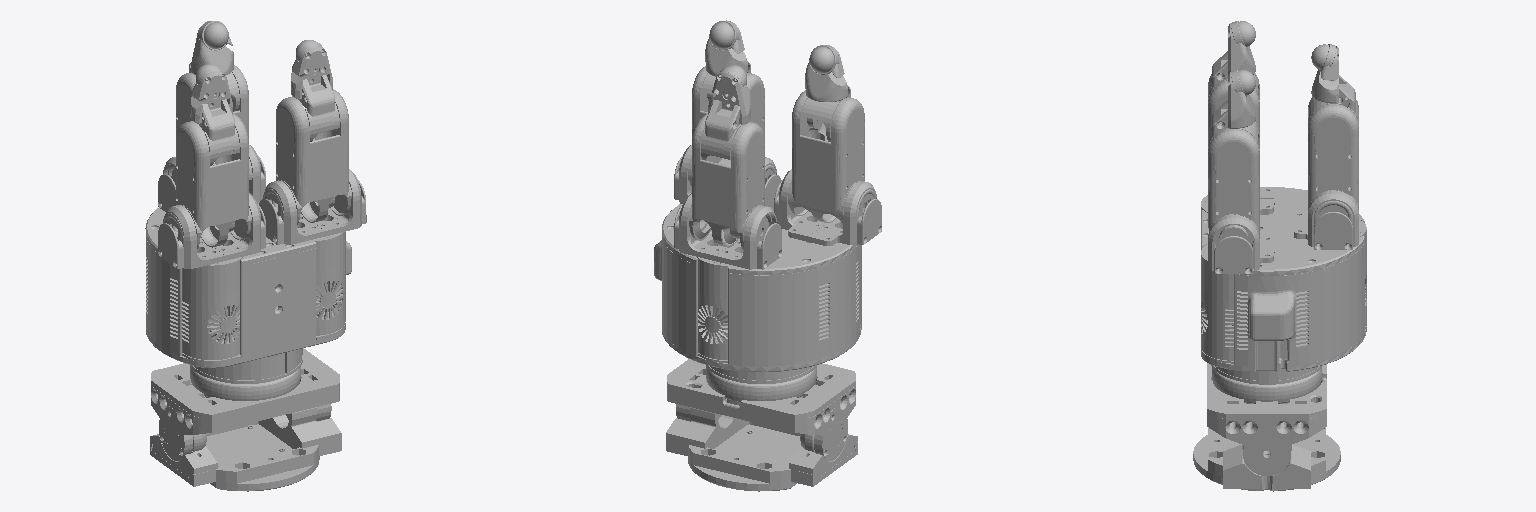
URDF robot description (hand_H):
<?xml version="1.0" ?>
<!-- =================================================================================== -->
<!-- |    This document was autogenerated by xacro from robots/hand_h.xacro            | -->
<!-- |    EDITING THIS FILE BY HAND IS NOT RECOMMENDED                                 | -->
<!-- =================================================================================== -->
<robot name="hand_H" xmlns:xacro="http://ros.org/wiki/xacro">
  <link name="world"/>
  <material name="Blue">
    <color rgba="0.0 0.0 0.8 1.0"/>
  </material>
  <material name="Green">
    <color rgba="0.0 0.8 0.0 1.0"/>
  </material>
  <material name="BiotacGreen">
    <color rgba="0.31 0.85 0.42 1.0"/>
  </material>
  <material name="Grey">
    <color rgba="0.2 0.2 0.2 1.0"/>
  </material>
  <material name="LightGrey">
    <color rgba="0.6 0.6 0.6 1.0"/>
  </material>
  <material name="Red">
    <color rgba="0.8 0.0 0.0 1.0"/>
  </material>
  <material name="White">
    <color rgba="1.0 1.0 1.0 1.0"/>
  </material>
  <gazebo>
    <plugin filename="libgazebo_ros_control.so" name="ros_control">
      <robotSimType>gazebo_ros_control/DefaultRobotHWSim</robotSimType>
    </plugin>
  </gazebo>
  <link name="H1_WR_wrist_base">
    <inertial>
      <origin rpy="0 0 0" xyz="0.00326865129997316 -4.64589898998213E-06 0.0112847129271115"/>
      <mass value="0.126266795472122"/>
      <inertia ixx="7.45469352483292E-05" ixy="6.02324465005139E-09" ixz="7.48046652661961E-07" iyy="0.000152711306761993" iyz="2.66777152755212E-09" izz="0.000201286651417327"/>
    </inertial>
    <visual>
      <origin rpy="0 0 0" xyz="0 0 0"/>
      <geometry>
        <mesh filename="package://fh_desc/meshes/wrist_base.stl"/>
      </geometry>
      <material name="light_grey">
        <color rgba="0.75 0.75 0.75 1.0"/>
      </material>
    </visual>
    <collision>
      <origin rpy="0 0 0" xyz="0 0 0"/>
      <geometry>
        <mesh filename="package://fh_desc/meshes/wrist_base.stl"/>
      </geometry>
      <material name="light_grey">
        <color rgba="0.75 0.75 0.75 1.0"/>
      </material>
    </collision>
  </link>
  <link name="H1_WR_wrist">
    <inertial>
      <origin rpy="0 0 0" xyz="0.00160957599422527 -0.000629300457080406 0.0174740198321096"/>
      <mass value="0.111982108931474"/>
      <inertia ixx="7.18014678375949E-05" ixy="-9.11325601281988E-07" ixz="-2.80734883420538E-06" iyy="0.000184429517814393" iyz="-2.43285388562761E-07" izz="0.000238392777579217"/>
    </inertial>
    <visual>
      <origin rpy="0 0 0" xyz="0 0 0"/>
      <geometry>
        <mesh filename="package://fh_desc/meshes/wrist.stl"/>
      </geometry>
      <material name="light_grey">
        <color rgba="0.75 0.75 0.75 1.0"/>
      </material>
    </visual>
    <collision>
      <origin rpy="0 0 0" xyz="0 0 0"/>
      <geometry>
        <mesh filename="package://fh_desc/meshes/wrist.stl"/>
      </geometry>
      <material name="light_grey">
        <color rgba="0.75 0.75 0.75 1.0"/>
      </material>
    </collision>
  </link>
  <joint name="H1_WRJ1" type="revolute">
    <origin rpy="0 0 0" xyz="0 0 0.032"/>
    <parent link="H1_WR_wrist_base"/>
    <child link="H1_WR_wrist"/>
    <axis xyz="-1 0 0"/>
    <limit effort="20" lower="-0.785" upper="0.785" velocity="0.1"/>
    <dynamic damping="0.1"/>
  </joint>
  <link name="H1_WR_force_torque_sensor">
    <inertial>
      <origin rpy="0 0 0" xyz="-2.94070736140857E-06 6.43877814287904E-05 0.0247092180043537"/>
      <mass value="0.0975991645938483"/>
      <inertia ixx="6.20729230428078E-05" ixy="-1.64643097783638E-08" ixz="-3.24429596458139E-08" iyy="6.18050372756729E-05" iyz="1.29139184791137E-08" izz="8.23283621428637E-05"/>
    </inertial>
    <visual>
      <origin rpy="0 0 0" xyz="0 0 0"/>
      <geometry>
        <mesh filename="package://fh_desc/meshes/force_torque_sensor.stl"/>
      </geometry>
      <material name="light_grey">
        <color rgba="0.75 0.75 0.75 1.0"/>
      </material>
    </visual>
    <collision>
      <origin rpy="0 0 0" xyz="0 0 0"/>
      <geometry>
        <mesh filename="package://fh_desc/meshes/force_torque_sensor.stl"/>
      </geometry>
      <material name="light_grey">
        <color rgba="0.75 0.75 0.75 1.0"/>
      </material>
    </collision>
  </link>
  <link name="H1_WR_face_plate"/>
  <joint name="H1_WR_wrist_to_ft_sensor" type="fixed">
    <origin rpy="0 0 0" xyz="0 0 0.015"/>
    <parent link="H1_WR_wrist"/>
    <child link="H1_WR_force_torque_sensor"/>
  </joint>
  <joint name="H1_WR_wrist_base" type="fixed">
    <origin rpy="0 0 0" xyz="0 0 0"/>
    <parent link="world"/>
    <child link="H1_WR_wrist_base"/>
  </joint>
  <joint name="H1_WRft_sensor_to_faceplate" type="fixed">
    <origin rpy="0 0 0" xyz="0 0 0.0505"/>
    <parent link="H1_WR_force_torque_sensor"/>
    <child link="H1_WR_face_plate"/>
  </joint>
  <transmission name="H1_WRJ1_transmission">
    <type>transmission_interface/SimpleTransmission</type>
    <actuator name="H1_WRJ1">
      <mechanicalReduction>1</mechanicalReduction>
    </actuator>
    <joint name="H1_WRJ1">
      <hardwareInterface>EffortJointInterface</hardwareInterface>
    </joint>
  </transmission>
  <link name="H1_base_link">
    <inertial>
      <origin rpy="0 0 0" xyz="0.000167074827019974 0.017647639199748 0.0354392421665256"/>
      <mass value="0.802291302622713"/>
      <inertia ixx="0.00268740968940699" ixy="-2.63877052807301E-06" ixz="8.21876760057436E-06" iyy="0.00273884664780255" iyz="0.000454017867570455" izz="0.00145589837379105"/>
    </inertial>
    <visual>
      <origin rpy="0 0 0" xyz="0 0 0"/>
      <geometry>
        <mesh filename="package://fh_desc/meshes/palm_base.stl"/>
      </geometry>
      <material name="light_grey">
        <color rgba="0.75 0.75 0.75 1.0"/>
      </material>
    </visual>
    <collision>
      <origin rpy="0 0 0" xyz="0 0 0"/>
      <geometry>
        <mesh filename="package://fh_desc/meshes/palm_base.stl"/>
      </geometry>
      <material name="light_grey">
        <color rgba="0.75 0.75 0.75 1.0"/>
      </material>
    </collision>
  </link>
  <joint name="H1Base" type="fixed">
    <origin rpy="0 0 0" xyz="0 0 0"/>
    <parent link="H1_WR_face_plate"/>
    <child link="H1_wrist_attach"/>
  </joint>
  <link name="H1_insert_F1"/>
  <joint name="H1_dummy_joint_1" type="fixed">
    <origin rpy="0 0 0" xyz="0 0.045 0.002"/>
    <parent link="H1_base_link"/>
    <child link="H1_insert_F1"/>
  </joint>
  <link name="H1_insert_F2"/>
  <joint name="H1_dummy_joint_2" type="fixed">
    <origin rpy="0 0 3.14159265359" xyz="0.038971 -0.0225 0.002"/>
    <parent link="H1_base_link"/>
    <child link="H1_insert_F2"/>
  </joint>
  <link name="H1_insert_F3"/>
  <joint name="H1_dummy_joint_3" type="fixed">
    <origin rpy="0 0 3.14159265359" xyz="-0.038971 -0.0225 0.002"/>
    <parent link="H1_base_link"/>
    <child link="H1_insert_F3"/>
  </joint>
  <link name="H1_wrist_attach"/>
  <joint name="H1_base_link_wrist_attach" type="fixed">
    <origin rpy="0 0 0" xyz="0 0 -0.0005"/>
    <child link="H1_base_link"/>
    <parent link="H1_wrist_attach"/>
  </joint>
  <link name="H1_F1_base_link">
    <inertial>
      <origin rpy="0 0 0" xyz="-0.00016975101978813 0.00197421910589327 0.0561457825889687"/>
      <mass value="0.206184327436554"/>
      <inertia ixx="0.000196208681085273" ixy="7.25965267883658E-08" ixz="-1.42989296818671E-06" iyy="0.00022500240306659" iyz="-8.62726850629812E-06" izz="7.34501911009421E-05"/>
    </inertial>
    <visual>
      <origin rpy="0 0 0" xyz="0 0 0"/>
      <geometry>
        <mesh filename="package://fh_desc/meshes/base_link.stl"/>
      </geometry>
      <material name="light_grey">
        <color rgba="0.75 0.75 0.75 1.0"/>
      </material>
    </visual>
    <collision>
      <origin rpy="0 0 0" xyz="0 0 0"/>
      <geometry>
        <mesh filename="package://fh_desc/meshes/base_link.stl"/>
      </geometry>
      <material name="light_grey">
        <color rgba="0.75 0.75 0.75 1.0"/>
      </material>
    </collision>
  </link>
  <link name="H1_F1_link_1">
    <inertial>
      <origin rpy="0 0 0" xyz="-0.000237426002648366 -0.000311474464416824 0.02717870175844"/>
      <mass value="0.148439137620102"/>
      <inertia ixx="7.87590932011867E-05" ixy="-2.09812809718026E-08" ixz="-4.7018912298647E-07" iyy="9.21180950643254E-05" iyz="1.02291530412464E-06" izz="4.38404666397581E-05"/>
    </inertial>
    <visual>
      <origin rpy="0 0 0" xyz="0 0 0"/>
      <geometry>
        <mesh filename="package://fh_desc/meshes/prox.stl"/>
      </geometry>
      <material name="light_grey">
        <color rgba="0.75 0.75 0.75 1.0"/>
      </material>
    </visual>
    <collision>
      <origin rpy="0 0 0" xyz="0 0 0"/>
      <geometry>
        <mesh filename="package://fh_desc/meshes/prox.stl"/>
      </geometry>
      <material name="light_grey">
        <color rgba="0.75 0.75 0.75 1.0"/>
      </material>
    </collision>
  </link>
  <link name="H1_F1_link_2">
    <inertial>
      <origin rpy="0 0 0" xyz="0.000688458734451483 -0.00121669160147178 0.0179379664791534"/>
      <mass value="0.0468986964963515"/>
      <inertia ixx="1.66577929038936E-05" ixy="1.91370536767985E-09" ixz="-7.90963473136566E-07" iyy="1.65880289089031E-05" iyz="-2.10962265976158E-06" izz="5.79382496615135E-06"/>
    </inertial>
    <visual>
      <origin rpy="0 0 0" xyz="0 0 0"/>
      <geometry>
        <mesh filename="package://fh_desc/meshes/dist.stl"/>
      </geometry>
      <material name="light_grey">
        <color rgba="0.75 0.75 0.75 1.0"/>
      </material>
    </visual>
    <collision>
      <origin rpy="0 0 0" xyz="0 0 0"/>
      <geometry>
        <mesh filename="package://fh_desc/meshes/dist.stl"/>
      </geometry>
      <material name="light_grey">
        <color rgba="0.75 0.75 0.75 1.0"/>
      </material>
    </collision>
  </link>
  <joint name="H1_F1Base" type="fixed">
    <origin rpy="0 0 0" xyz="0 0 0"/>
    <parent link="H1_insert_F1"/>
    <child link="H1_F1_base_link"/>
  </joint>
  <joint name="H1_F1J1" type="revolute">
    <origin rpy="0 0 0" xyz="0 0 0.096"/>
    <parent link="H1_F1_base_link"/>
    <child link="H1_F1_link_1"/>
    <axis xyz="1 0 0"/>
    <limit effort="2" lower="-1.57079632679" upper="1.0472" velocity="1.0"/>
    <dynamics damping="0.1"/>
  </joint>
  <joint name="H1_F1J2" type="revolute">
    <origin rpy="0 0 0" xyz="0 0 0.06"/>
    <axis xyz="1 0 0"/>
    <parent link="H1_F1_link_1"/>
    <child link="H1_F1_link_2"/>
    <limit effort="2" lower="-1.04716" upper="1.57075" velocity="1.0"/>
    <dynamics damping="0.01"/>
  </joint>
  <transmission name="H1_F1J1_transmission">
    <type>transmission_interface/SimpleTransmission</type>
    <actuator name="H1_F1J1">
      <mechanicalReduction>1</mechanicalReduction>
    </actuator>
    <joint name="H1_F1J1">
      <hardwareInterface>EffortJointInterface</hardwareInterface>
    </joint>
  </transmission>
  <transmission name="H1_F1J2_transmission">
    <type>transmission_interface/SimpleTransmission</type>
    <actuator name="H1_F1J2">
      <mechanicalReduction>1</mechanicalReduction>
    </actuator>
    <joint name="H1_F1J2">
      <hardwareInterface>EffortJointInterface</hardwareInterface>
    </joint>
  </transmission>
  <link name="H1_F1_tip">
    <inertial>
      <origin rpy="0 0 0" xyz="-0.000925580990320645 -0.00495543398528436 0.0355865585792753"/>
      <mass value="0.00906322686585137"/>
      <inertia ixx="1.10049088227995E-06" ixy="-3.7290982171096E-09" ixz="-9.54389365908683E-09" iyy="1.36130530510584E-06" iyz="6.66133713720777E-08" izz="6.42259773618367E-07"/>
    </inertial>
    <visual>
      <origin rpy="0 0 0" xyz="0 0 0"/>
      <geometry>
        <mesh filename="package://fh_desc/meshes/omd-d18-tip.stl"/>
      </geometry>
      <material name="light_grey">
        <color rgba="0.75 0.75 0.75 1.0"/>
      </material>
    </visual>
    <collision>
      <origin rpy="0 0 0" xyz="0 0 0"/>
      <geometry>
        <mesh filename="package://fh_desc/meshes/omd-d18-tip.stl"/>
      </geometry>
      <material name="light_grey">
        <color rgba="0.75 0.75 0.75 1.0"/>
      </material>
    </collision>
  </link>
  <link name="H1_F1_optoforce"/>
  <joint name="H1_F1_tip_to_optoforce" type="fixed">
    <parent link="H1_F1_tip"/>
    <child link="H1_F1_optoforce"/>
    <origin rpy="-0.35 0 0" xyz="0 -0.006 0.046"/>
  </joint>
  <joint name="H1_F1_tip" type="fixed">
    <parent link="H1_F1_link_2"/>
    <child link="H1_F1_tip"/>
  </joint>
  <link name="H1_F2_base_link">
    <inertial>
      <origin rpy="0 0 0" xyz="-0.00016975101978813 0.00197421910589327 0.0561457825889687"/>
      <mass value="0.206184327436554"/>
      <inertia ixx="0.000196208681085273" ixy="7.25965267883658E-08" ixz="-1.42989296818671E-06" iyy="0.00022500240306659" iyz="-8.62726850629812E-06" izz="7.34501911009421E-05"/>
    </inertial>
    <visual>
      <origin rpy="0 0 0" xyz="0 0 0"/>
      <geometry>
        <mesh filename="package://fh_desc/meshes/base_link.stl"/>
      </geometry>
      <material name="light_grey">
        <color rgba="0.75 0.75 0.75 1.0"/>
      </material>
    </visual>
    <collision>
      <origin rpy="0 0 0" xyz="0 0 0"/>
      <geometry>
        <mesh filename="package://fh_desc/meshes/base_link.stl"/>
      </geometry>
      <material name="light_grey">
        <color rgba="0.75 0.75 0.75 1.0"/>
      </material>
    </collision>
  </link>
  <link name="H1_F2_link_1">
    <inertial>
      <origin rpy="0 0 0" xyz="-0.000237426002648366 -0.000311474464416824 0.02717870175844"/>
      <mass value="0.148439137620102"/>
      <inertia ixx="7.87590932011867E-05" ixy="-2.09812809718026E-08" ixz="-4.7018912298647E-07" iyy="9.21180950643254E-05" iyz="1.02291530412464E-06" izz="4.38404666397581E-05"/>
    </inertial>
    <visual>
      <origin rpy="0 0 0" xyz="0 0 0"/>
      <geometry>
        <mesh filename="package://fh_desc/meshes/prox.stl"/>
      </geometry>
      <material name="light_grey">
        <color rgba="0.75 0.75 0.75 1.0"/>
      </material>
    </visual>
    <collision>
      <origin rpy="0 0 0" xyz="0 0 0"/>
      <geometry>
        <mesh filename="package://fh_desc/meshes/prox.stl"/>
      </geometry>
      <material name="light_grey">
        <color rgba="0.75 0.75 0.75 1.0"/>
      </material>
    </collision>
  </link>
  <link name="H1_F2_link_2">
    <inertial>
      <origin rpy="0 0 0" xyz="0.000688458734451483 -0.00121669160147178 0.0179379664791534"/>
      <mass value="0.0468986964963515"/>
      <inertia ixx="1.66577929038936E-05" ixy="1.91370536767985E-09" ixz="-7.90963473136566E-07" iyy="1.65880289089031E-05" iyz="-2.10962265976158E-06" izz="5.79382496615135E-06"/>
    </inertial>
    <visual>
      <origin rpy="0 0 0" xyz="0 0 0"/>
      <geometry>
        <mesh filename="package://fh_desc/meshes/dist.stl"/>
      </geometry>
      <material name="light_grey">
        <color rgba="0.75 0.75 0.75 1.0"/>
      </material>
    </visual>
    <collision>
      <origin rpy="0 0 0" xyz="0 0 0"/>
      <geometry>
        <mesh filename="package://fh_desc/meshes/dist.stl"/>
      </geometry>
      <material name="light_grey">
        <color rgba="0.75 0.75 0.75 1.0"/>
      </material>
    </collision>
  </link>
  <joint name="H1_F2Base" type="fixed">
    <origin rpy="0 0 0" xyz="0 0 0"/>
    <parent link="H1_insert_F2"/>
    <child link="H1_F2_base_link"/>
  </joint>
  <joint name="H1_F2J1" type="revolute">
    <origin rpy="0 0 0" xyz="0 0 0.096"/>
    <parent link="H1_F2_base_link"/>
    <child link="H1_F2_link_1"/>
    <axis xyz="1 0 0"/>
    <limit effort="2" lower="-1.57079632679" upper="1.0472" velocity="1.0"/>
    <dynamics damping="0.1"/>
  </joint>
  <joint name="H1_F2J2" type="revolute">
    <origin rpy="0 0 0" xyz="0 0 0.06"/>
    <axis xyz="1 0 0"/>
    <parent link="H1_F2_link_1"/>
    <child link="H1_F2_link_2"/>
    <limit effort="2" lower="-1.04716" upper="1.57075" velocity="1.0"/>
    <dynamics damping="0.01"/>
  </joint>
  <transmission name="H1_F2J1_transmission">
    <type>transmission_interface/SimpleTransmission</type>
    <actuator name="H1_F2J1">
      <mechanicalReduction>1</mechanicalReduction>
    </actuator>
    <joint name="H1_F2J1">
      <hardwareInterface>EffortJointInterface</hardwareInterface>
    </joint>
  </transmission>
  <transmission name="H1_F2J2_transmission">
    <type>transmission_interface/SimpleTransmission</type>
    <actuator name="H1_F2J2">
      <mechanicalReduction>1</mechanicalReduction>
    </actuator>
    <joint name="H1_F2J2">
      <hardwareInterface>EffortJointInterface</hardwareInterface>
    </joint>
  </transmission>
  <link name="H1_F2_tip">
    <inertial>
      <origin rpy="0 0 0" xyz="-0.000925580990320645 -0.00495543398528436 0.0355865585792753"/>
      <mass value="0.00906322686585137"/>
      <inertia ixx="1.10049088227995E-06" ixy="-3.7290982171096E-09" ixz="-9.54389365908683E-09" iyy="1.36130530510584E-06" iyz="6.66133713720777E-08" izz="6.42259773618367E-07"/>
    </inertial>
    <visual>
      <origin rpy="0 0 0" xyz="0 0 0"/>
      <geometry>
        <mesh filename="package://fh_desc/meshes/omd-d18-tip.stl"/>
      </geometry>
      <material name="light_grey">
        <color rgba="0.75 0.75 0.75 1.0"/>
      </material>
    </visual>
    <collision>
      <origin rpy="0 0 0" xyz="0 0 0"/>
      <geometry>
        <mesh filename="package://fh_desc/meshes/omd-d18-tip.stl"/>
      </geometry>
      <material name="light_grey">
        <color rgba="0.75 0.75 0.75 1.0"/>
      </material>
    </collision>
  </link>
  <link name="H1_F2_optoforce"/>
  <joint name="H1_F2_tip_to_optoforce" type="fixed">
    <parent link="H1_F2_tip"/>
    <child link="H1_F2_optoforce"/>
    <origin rpy="-0.35 0 0" xyz="0 -0.006 0.046"/>
  </joint>
  <joint name="H1_F2_tip" type="fixed">
    <parent link="H1_F2_link_2"/>
    <child link="H1_F2_tip"/>
  </joint>
  <link name="H1_F3_base_link">
    <inertial>
      <origin rpy="0 0 0" xyz="-0.00016975101978813 0.00197421910589327 0.0561457825889687"/>
      <mass value="0.206184327436554"/>
      <inertia ixx="0.000196208681085273" ixy="7.25965267883658E-08" ixz="-1.42989296818671E-06" iyy="0.00022500240306659" iyz="-8.62726850629812E-06" izz="7.34501911009421E-05"/>
    </inertial>
    <visual>
      <origin rpy="0 0 0" xyz="0 0 0"/>
      <geometry>
        <mesh filename="package://fh_desc/meshes/base_link.stl"/>
      </geometry>
      <material name="light_grey">
        <color rgba="0.75 0.75 0.75 1.0"/>
      </material>
    </visual>
    <collision>
      <origin rpy="0 0 0" xyz="0 0 0"/>
      <geometry>
        <mesh filename="package://fh_desc/meshes/base_link.stl"/>
      </geometry>
      <material name="light_grey">
        <color rgba="0.75 0.75 0.75 1.0"/>
      </material>
    </collision>
  </link>
  <link name="H1_F3_link_1">
    <inertial>
      <origin rpy="0 0 0" xyz="-0.000237426002648366 -0.000311474464416824 0.02717870175844"/>
      <mass value="0.148439137620102"/>
      <inertia ixx="7.87590932011867E-05" ixy="-2.09812809718026E-08" ixz="-4.7018912298647E-07" iyy="9.21180950643254E-05" iyz="1.02291530412464E-06" izz="4.38404666397581E-05"/>
    </inertial>
    <visual>
      <origin rpy="0 0 0" xyz="0 0 0"/>
      <geometry>
        <mesh filename="package://fh_desc/meshes/prox.stl"/>
      </geometry>
      <material name="light_grey">
        <color rgba="0.75 0.75 0.75 1.0"/>
      </material>
    </visual>
    <collision>
      <origin rpy="0 0 0" xyz="0 0 0"/>
      <geometry>
        <mesh filename="package://fh_desc/meshes/prox.stl"/>
      </geometry>
      <material name="light_grey">
        <color rgba="0.75 0.75 0.75 1.0"/>
      </material>
    </collision>
  </link>
  <link name="H1_F3_link_2">
    <inertial>
      <origin rpy="0 0 0" xyz="0.000688458734451483 -0.00121669160147178 0.0179379664791534"/>
      <mass value="0.0468986964963515"/>
      <inertia ixx="1.66577929038936E-05" ixy="1.91370536767985E-09" ixz="-7.90963473136566E-07" iyy="1.65880289089031E-05" iyz="-2.10962265976158E-06" izz="5.79382496615135E-06"/>
    </inertial>
    <visual>
      <origin rpy="0 0 0" xyz="0 0 0"/>
      <geometry>
        <mesh filename="package://fh_desc/meshes/dist.stl"/>
      </geometry>
      <material name="light_grey">
        <color rgba="0.75 0.75 0.75 1.0"/>
      </material>
    </visual>
    <collision>
      <origin rpy="0 0 0" xyz="0 0 0"/>
      <geometry>
        <mesh filename="package://fh_desc/meshes/dist.stl"/>
      </geometry>
      <material name="light_grey">
        <color rgba="0.75 0.75 0.75 1.0"/>
      </material>
    </collision>
  </link>
  <joint name="H1_F3Base" type="fixed">
    <origin rpy="0 0 0" xyz="0 0 0"/>
    <parent link="H1_insert_F3"/>
    <child link="H1_F3_base_link"/>
  </joint>
  <joint name="H1_F3J1" type="revolute">
    <origin rpy="0 0 0" xyz="0 0 0.096"/>
    <parent link="H1_F3_base_link"/>
    <child link="H1_F3_link_1"/>
    <axis xyz="1 0 0"/>
    <limit effort="2" lower="-1.57079632679" upper="1.0472" velocity="1.0"/>
    <dynamics damping="0.1"/>
  </joint>
  <joint name="H1_F3J2" type="revolute">
    <origin rpy="0 0 0" xyz="0 0 0.06"/>
    <axis xyz="1 0 0"/>
    <parent link="H1_F3_link_1"/>
    <child link="H1_F3_link_2"/>
    <limit effort="2" lower="-1.04716" upper="1.57075" velocity="1.0"/>
    <dynamics damping="0.01"/>
  </joint>
  <transmission name="H1_F3J1_transmission">
    <type>transmission_interface/SimpleTransmission</type>
    <actuator name="H1_F3J1">
      <mechanicalReduction>1</mechanicalReduction>
    </actuator>
    <joint name="H1_F3J1">
      <hardwareInterface>EffortJointInterface</hardwareInterface>
    </joint>
  </transmission>
  <transmission name="H1_F3J2_transmission">
    <type>transmission_interface/SimpleTransmission</type>
    <actuator name="H1_F3J2">
      <mechanicalReduction>1</mechanicalReduction>
    </actuator>
    <joint name="H1_F3J2">
      <hardwareInterface>EffortJointInterface</hardwareInterface>
    </joint>
  </transmission>
  <link name="H1_F3_tip">
    <inertial>
      <origin rpy="0 0 0" xyz="-0.000925580990320645 -0.00495543398528436 0.0355865585792753"/>
      <mass value="0.00906322686585137"/>
      <inertia ixx="1.10049088227995E-06" ixy="-3.7290982171096E-09" ixz="-9.54389365908683E-09" iyy="1.36130530510584E-06" iyz="6.66133713720777E-08" izz="6.42259773618367E-07"/>
    </inertial>
    <visual>
      <origin rpy="0 0 0" xyz="0 0 0"/>
      <geometry>
        <mesh filename="package://fh_desc/meshes/omd-d18-tip.stl"/>
      </geometry>
      <material name="light_grey">
        <color rgba="0.75 0.75 0.75 1.0"/>
      </material>
    </visual>
    <collision>
      <origin rpy="0 0 0" xyz="0 0 0"/>
      <geometry>
        <mesh filename="package://fh_desc/meshes/omd-d18-tip.stl"/>
      </geometry>
      <material name="light_grey">
        <color rgba="0.75 0.75 0.75 1.0"/>
      </material>
    </collision>
  </link>
  <link name="H1_F3_optoforce"/>
  <joint name="H1_F3_tip_to_optoforce" type="fixed">
    <parent link="H1_F3_tip"/>
    <child link="H1_F3_optoforce"/>
    <origin rpy="-0.35 0 0" xyz="0 -0.006 0.046"/>
  </joint>
  <joint name="H1_F3_tip" type="fixed">
    <parent link="H1_F3_link_2"/>
    <child link="H1_F3_tip"/>
  </joint>
</robot>

--- What the picture shows (computed from the rendered views, not written in the file) ---
The picture shows the robot from 3 angles, left to right: view 1: azimuth 30°, elevation 25°; view 2: azimuth 150°, elevation 25°; view 3: azimuth 270°, elevation 25°; orthographic projection.
Model hand_H with 25 links and 24 joints (7 revolute, 17 fixed), rooted at world, posed all joints at 0.
Visible links, largest first — view 1: H1_base_link, H1_WR_wrist_base, H1_F3_base_link, H1_WR_wrist, H1_F2_link_1, H1_F3_link_1, H1_F2_base_link, H1_WR_force_torque_sensor, H1_F3_link_2, H1_F2_link_2, H1_F1_tip, H1_F1_link_1 (+3 smaller); view 2: H1_base_link, H1_WR_wrist_base, H1_WR_wrist, H1_F3_link_1, H1_F1_link_1, H1_F1_base_link, H1_F3_base_link, H1_WR_force_torque_sensor, H1_F3_tip, H1_F1_link_2, H1_F2_tip, H1_F2_link_1 (+3 smaller); view 3: H1_base_link, H1_WR_wrist, H1_F2_base_link, H1_WR_wrist_base, H1_F2_link_1, H1_F1_link_1, H1_F1_base_link, H1_WR_force_torque_sensor, H1_F2_tip, H1_F1_tip, H1_F3_tip, H1_F3_link_1 (+3 smaller).
Boxes of the visible links, x1,y1,x2,y2 form: H1_base_link: (145,186,351,367); H1_WR_wrist_base: (150,407,341,491); H1_F3_base_link: (158,193,265,359); H1_WR_wrist: (151,348,339,460); H1_F2_link_1: (275,89,351,224); H1_F3_link_1: (175,114,251,248); H1_F2_base_link: (259,169,366,335); H1_WR_force_torque_sensor: (190,348,302,400); H1_F3_link_2: (197,99,239,165); H1_F2_link_2: (292,75,339,141); H1_F1_tip: (191,21,233,74); H1_F1_link_1: (171,65,252,185); H1_base_link: (654,204,861,371); H1_WR_wrist_base: (666,407,857,491); H1_WR_wrist: (667,359,855,460); H1_F3_link_1: (788,90,864,224); H1_F1_link_1: (689,114,768,249); H1_F1_base_link: (674,193,781,359); H1_F3_base_link: (774,169,881,324); H1_WR_force_torque_sensor: (706,365,816,405); H1_F3_tip: (805,45,847,101); H1_F1_link_2: (701,99,740,162); H1_F2_tip: (705,20,747,76); H1_F2_link_1: (688,66,764,186); H1_base_link: (1201,187,1366,371); H1_WR_wrist: (1207,363,1326,475); H1_F2_base_link: (1201,215,1273,360); H1_WR_wrist_base: (1193,427,1340,491); H1_F2_link_1: (1208,122,1259,245); H1_F1_link_1: (1308,97,1358,207); H1_F1_base_link: (1294,190,1366,325); H1_WR_force_torque_sensor: (1211,365,1322,403); H1_F2_tip: (1228,69,1255,128); H1_F1_tip: (1311,44,1338,102); H1_F3_tip: (1228,21,1255,74); H1_F3_link_1: (1208,73,1259,132).
Bounding box of the posed robot: 0.1514 × 0.1175 × 0.3103 m (x, y, z).
16 mesh visuals loaded from 8 distinct referenced files (8 binary STL).